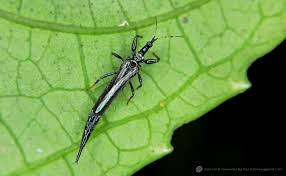Phlaeothripidae: (73, 16, 186, 166)
